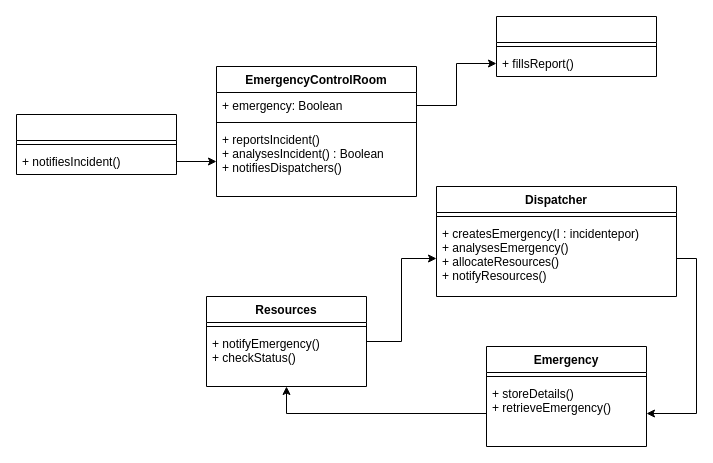
This 713x463 diagram has some shape labels left out. The shapes that lost their labels are listed below. From the top down, each one's box as (x1, y1, x2, y2) in pixels, then its label:
(496, 16, 656, 76): IncidentReport
(16, 114, 176, 174): Field officer
